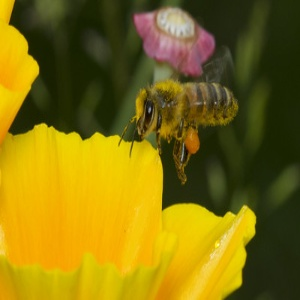bee: (116, 43, 239, 194)
